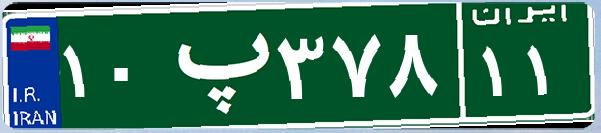0: (110, 28, 158, 105)
1: (57, 26, 110, 107), (475, 38, 525, 113), (525, 38, 570, 115)
3: (273, 28, 330, 110)
7: (330, 28, 385, 110)
8: (385, 28, 445, 110)
پ: (158, 15, 273, 115)
